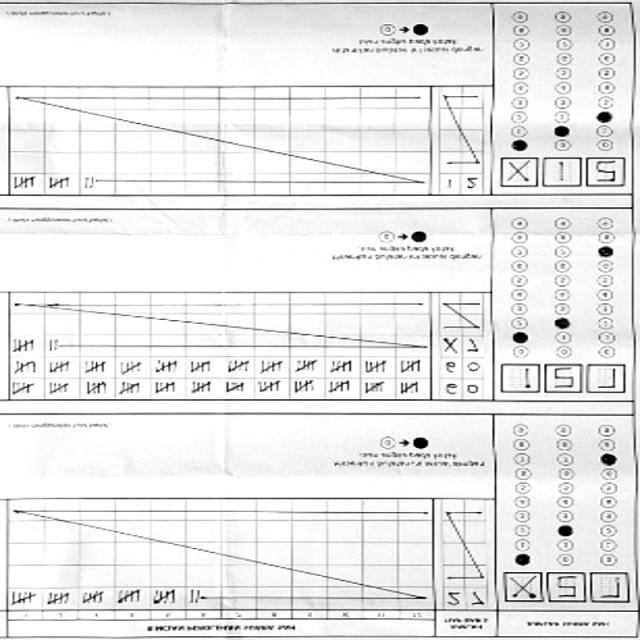Suara: (495, 154, 629, 192), (495, 361, 629, 398), (501, 569, 634, 606)
